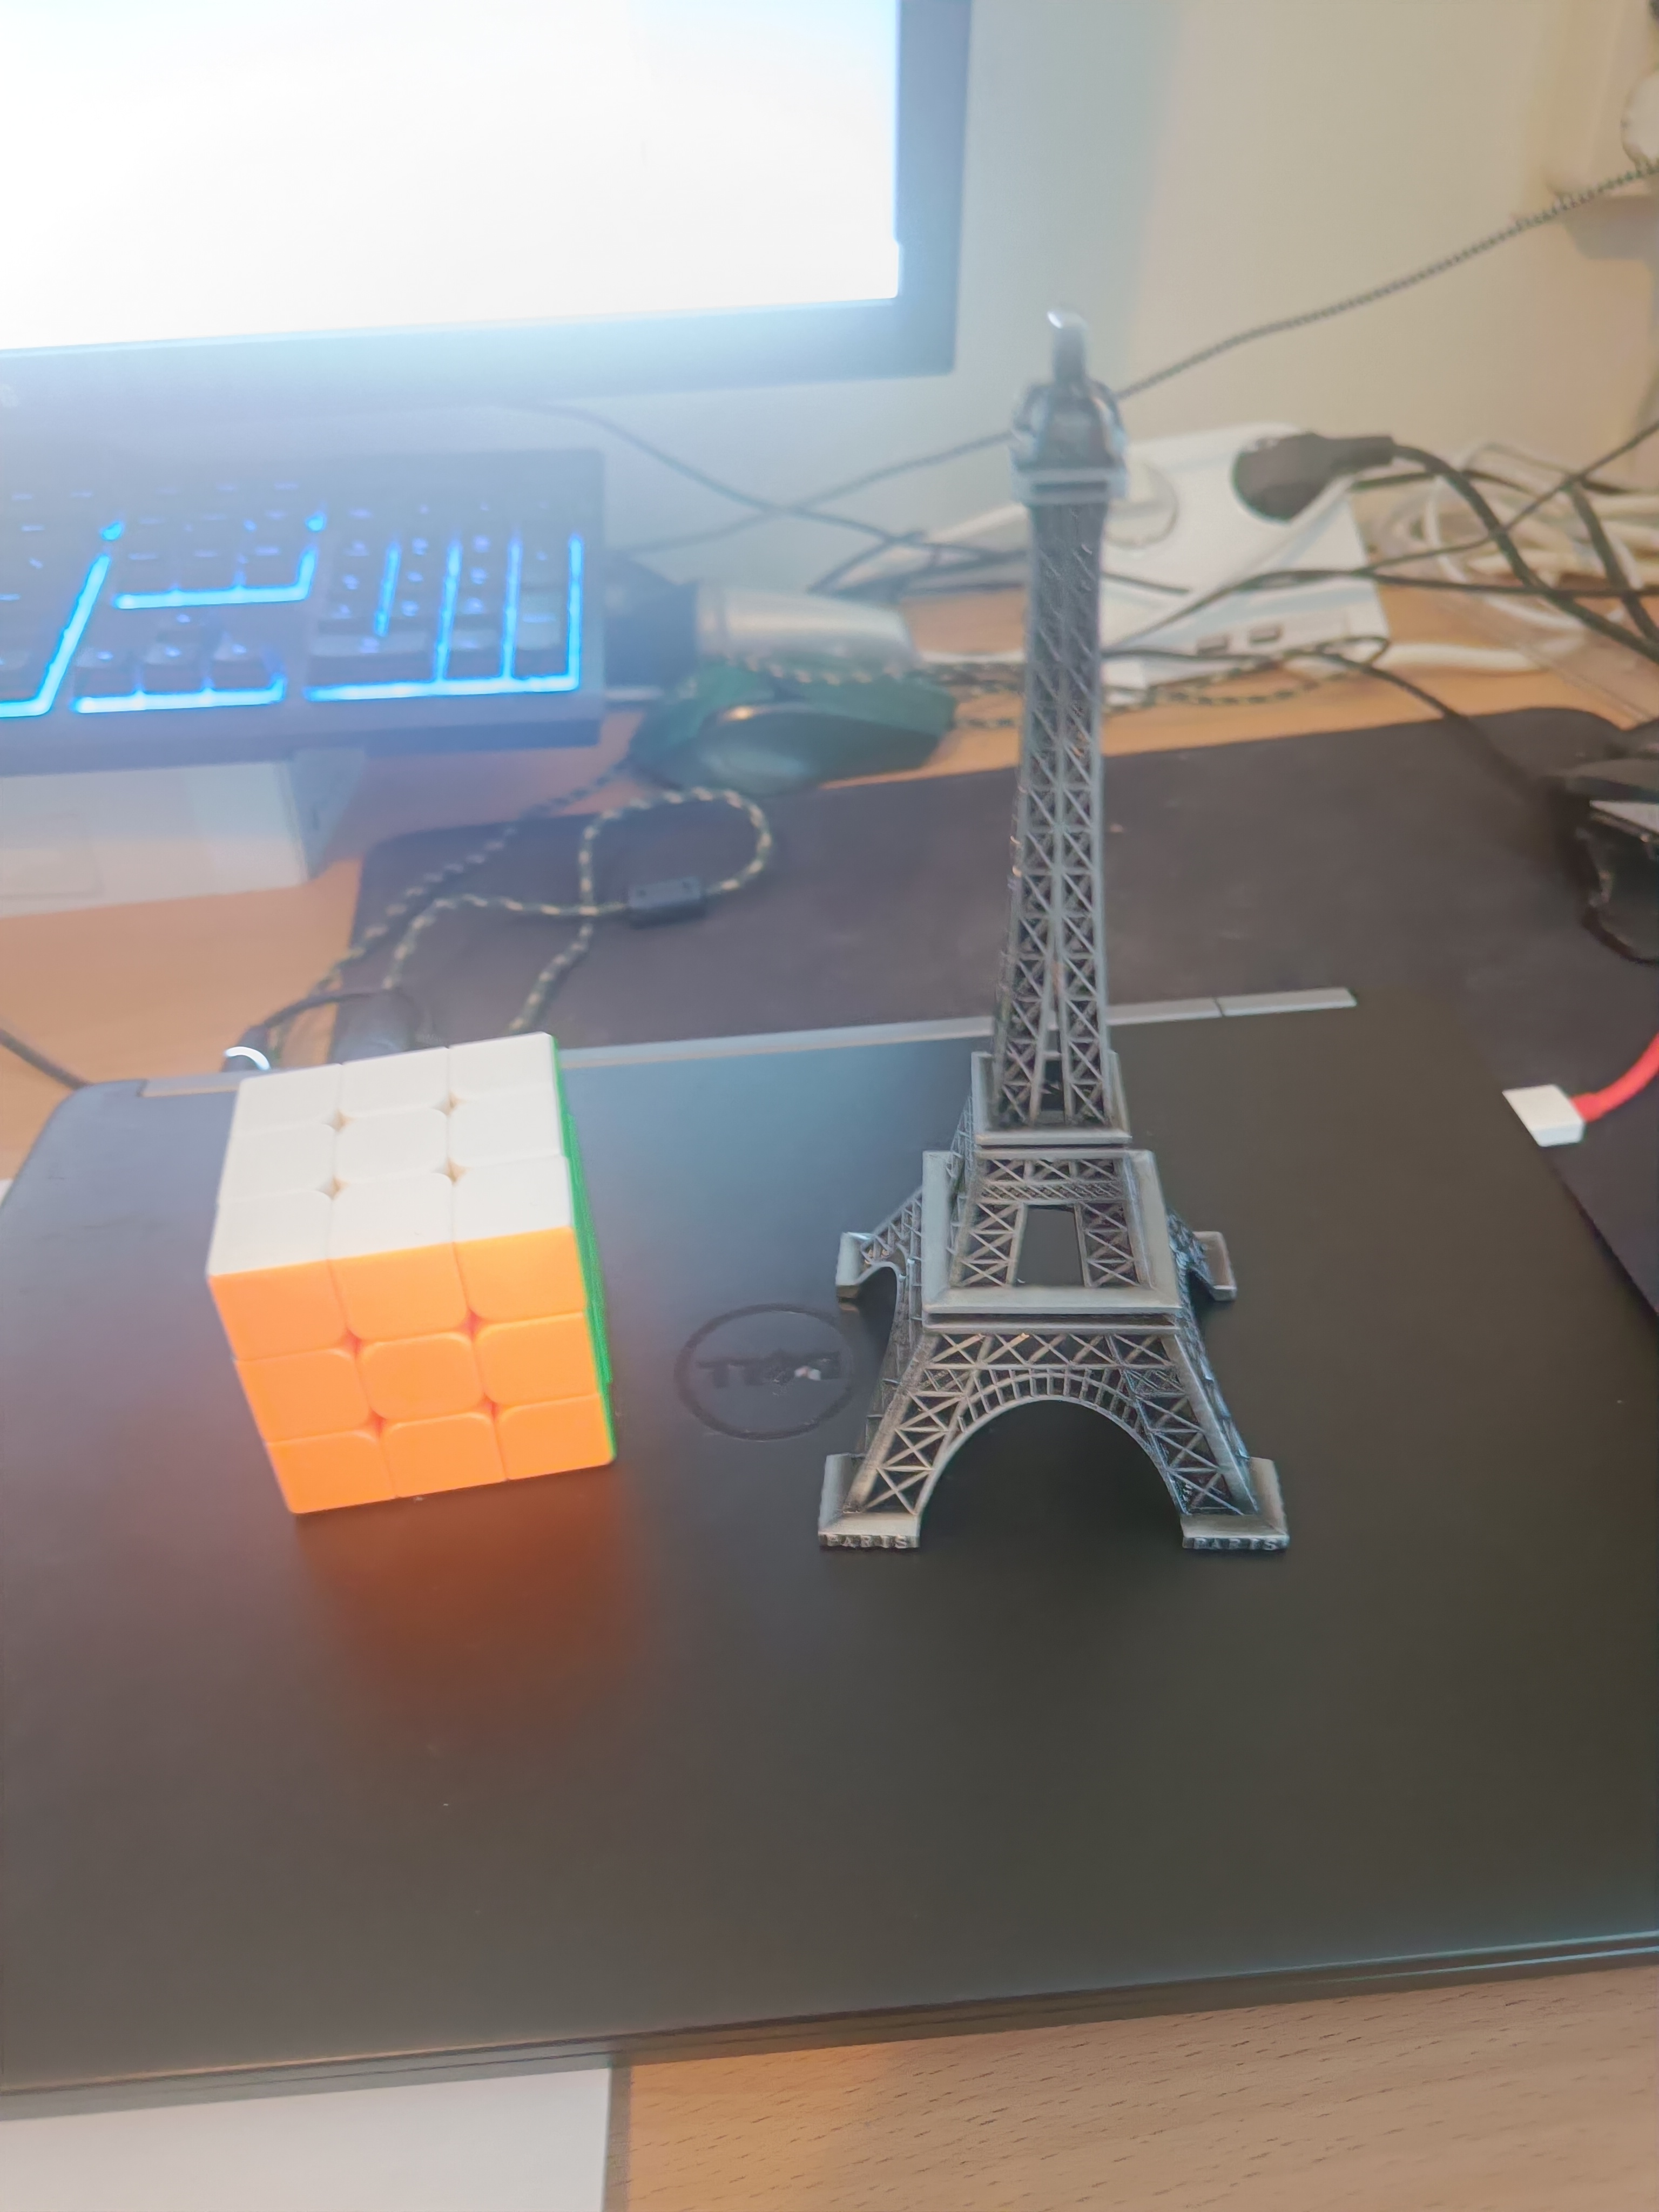Eiffel Tower: (796, 296, 1302, 1550)
Rubiks Cube: (213, 1021, 624, 1531)
